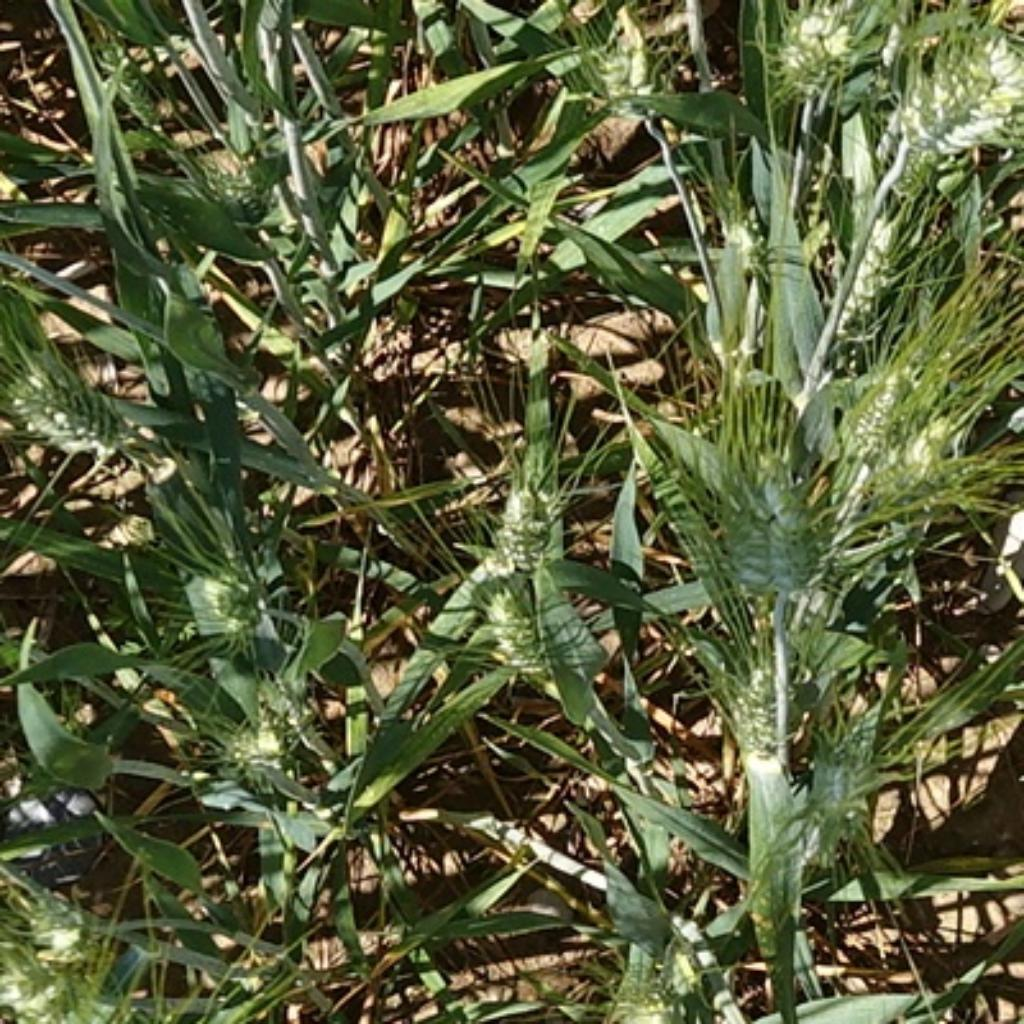0-0: (898, 30, 1024, 181), (785, 714, 906, 865), (2, 345, 140, 471), (212, 665, 327, 796), (166, 532, 289, 652), (711, 632, 816, 768), (720, 458, 824, 595), (458, 570, 573, 693), (824, 202, 924, 337), (752, 7, 880, 107), (478, 455, 573, 570), (2, 872, 110, 967), (176, 130, 281, 220), (87, 25, 179, 122), (847, 358, 921, 476), (890, 407, 972, 488), (2, 952, 94, 1024), (709, 189, 770, 281), (607, 985, 687, 1024), (589, 20, 628, 85)
